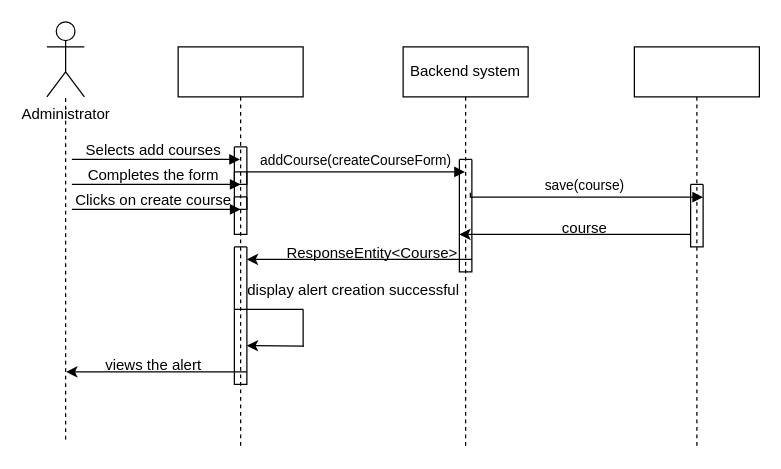
Some shapes in this 781 by 469 pixel diagram are drawn without their labels. The centre of each missing label's shape, as x and y in pixels:
"Database" goes at (696,246).
"Frontend" goes at (240,246).
